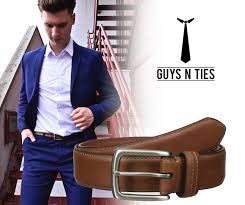F_M_suit jacket: (14, 41, 121, 145)
F_belt: (26, 126, 89, 143)
F_dress pants: (17, 139, 93, 205)
